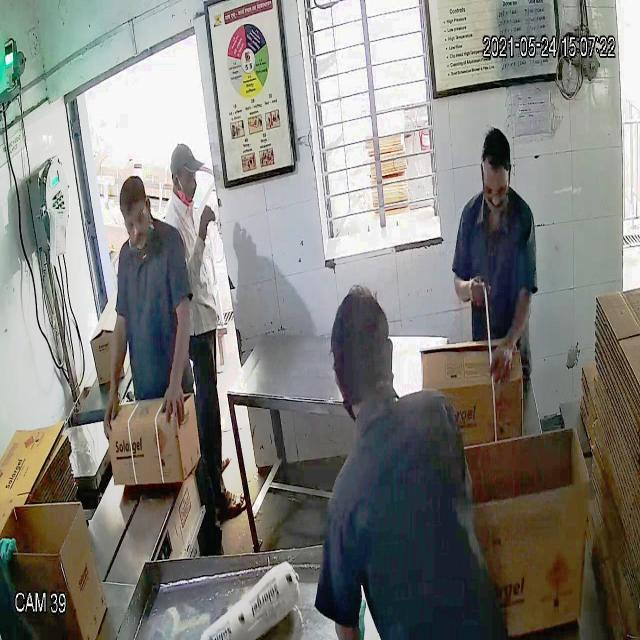glasses: (120, 207, 150, 234)
no-glass: (168, 164, 198, 192)
